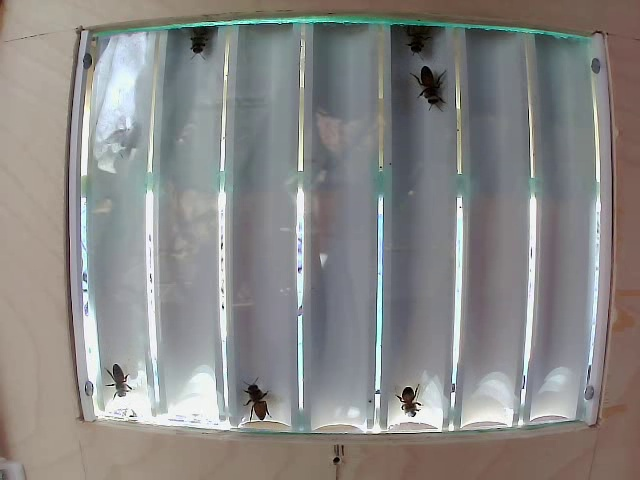bee: (411, 58, 459, 120), (247, 376, 280, 433), (100, 354, 134, 405), (388, 385, 430, 420)
